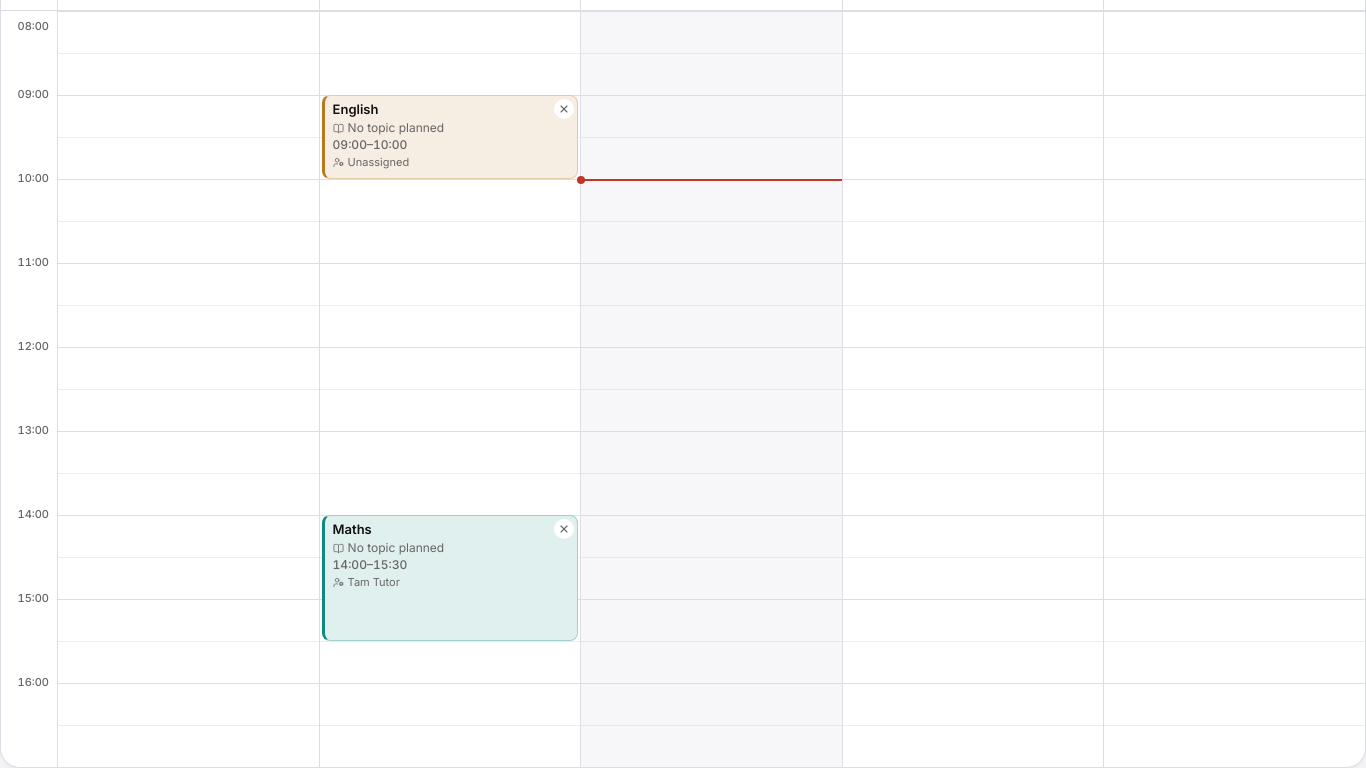
Scenario: TimetablePage changing and removing sessions › Cancel and Escape close the dialog without saving
(page scrolled)
Step 1. Click the button with aria-label "Edit Maths" → (451,578), box [325,516,577,640]
(page scrolled)
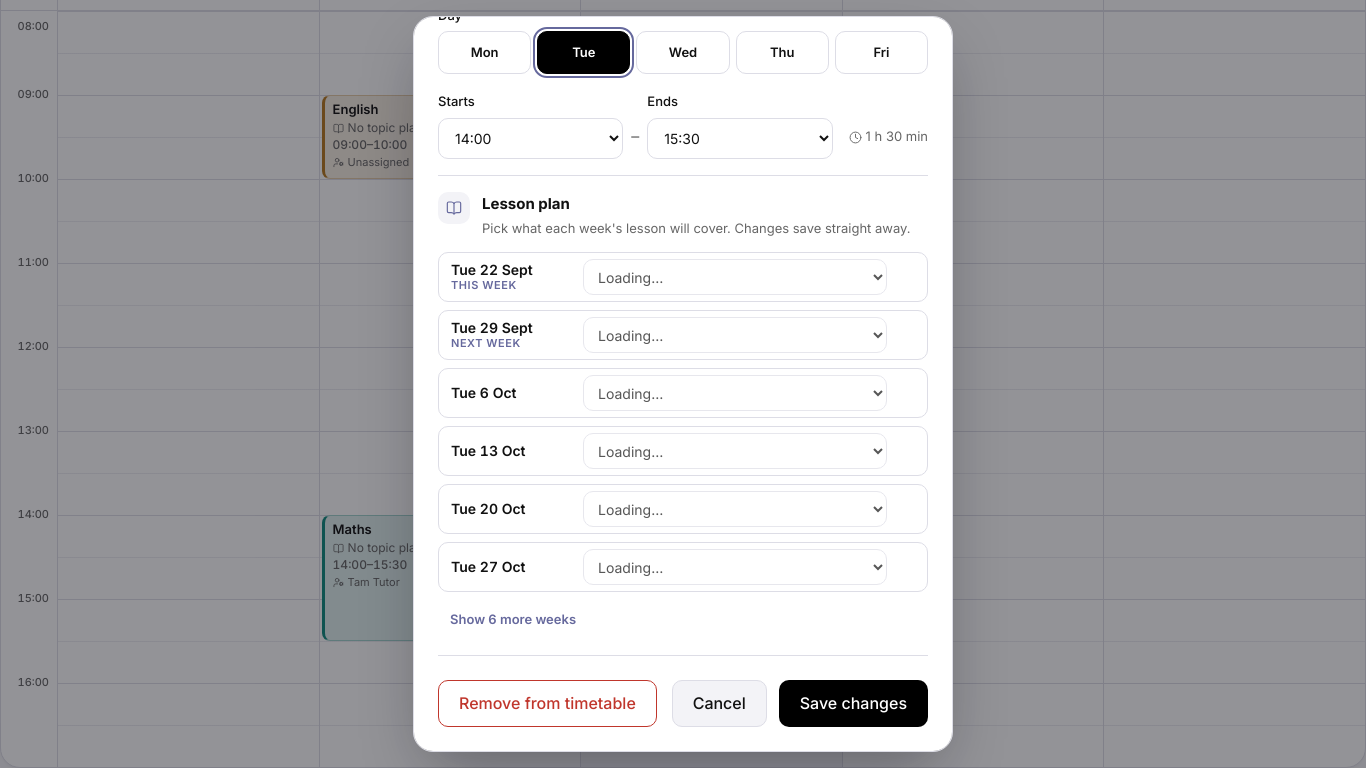
Step 2. Click the button "Cancel" → (719,704), box [672,680,767,727]
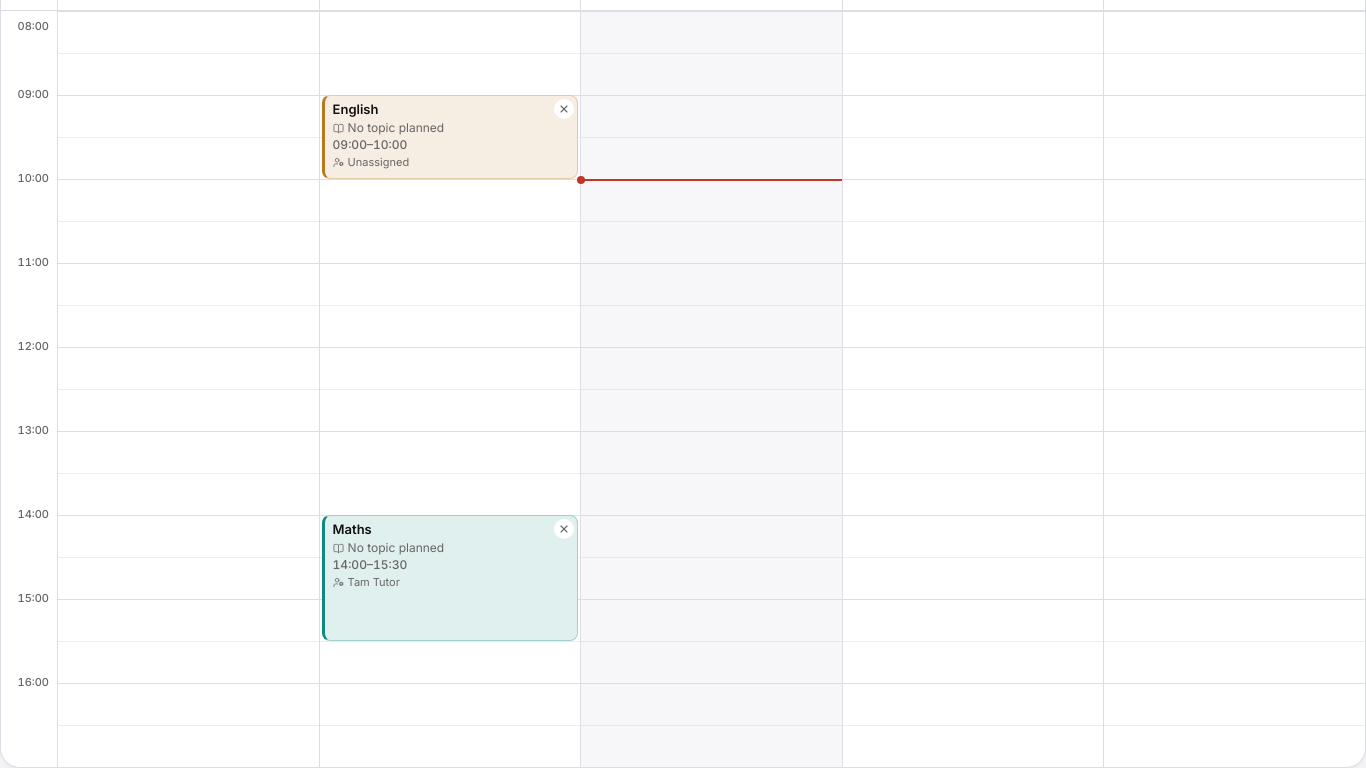
Expected: the dialog is gone
Step 3. Click the button with aria-label "Edit Maths" → (451,578), box [325,516,577,640]
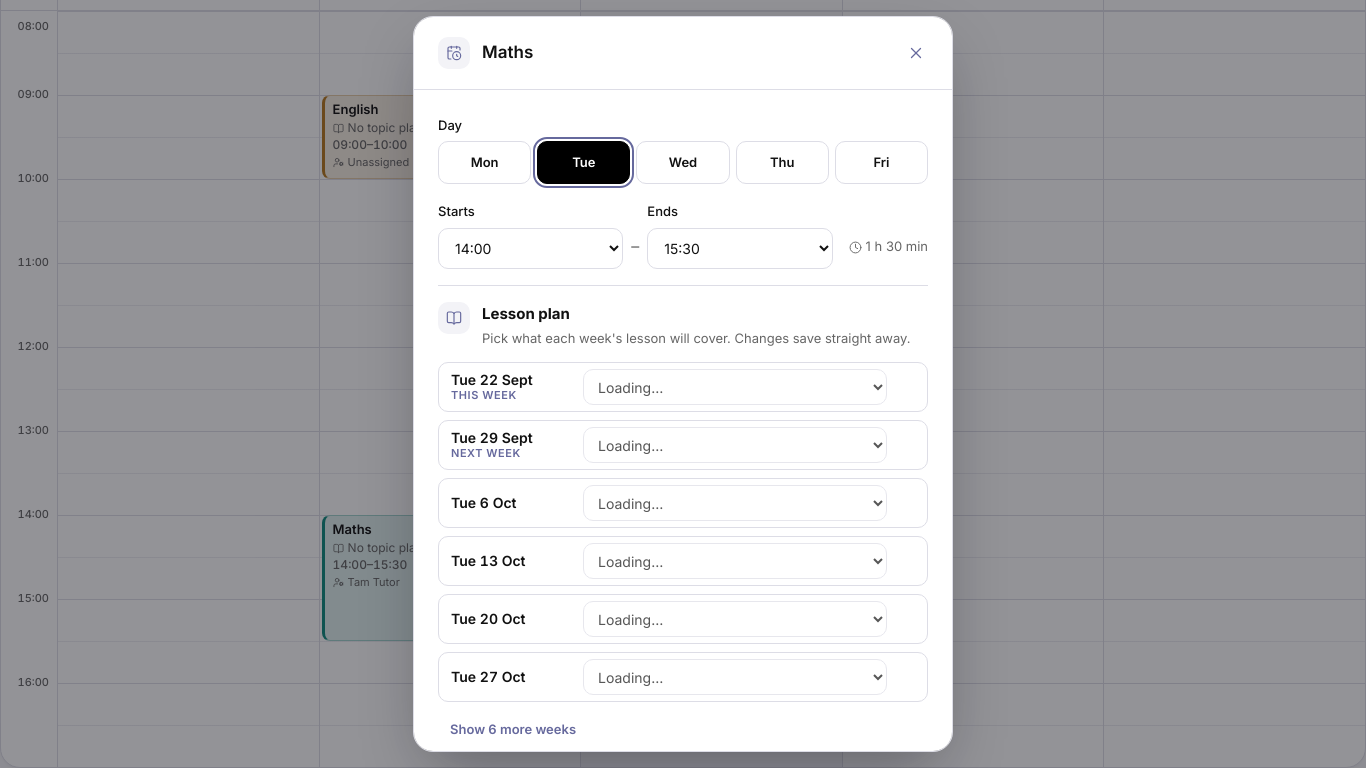
Step 4. Press Escape
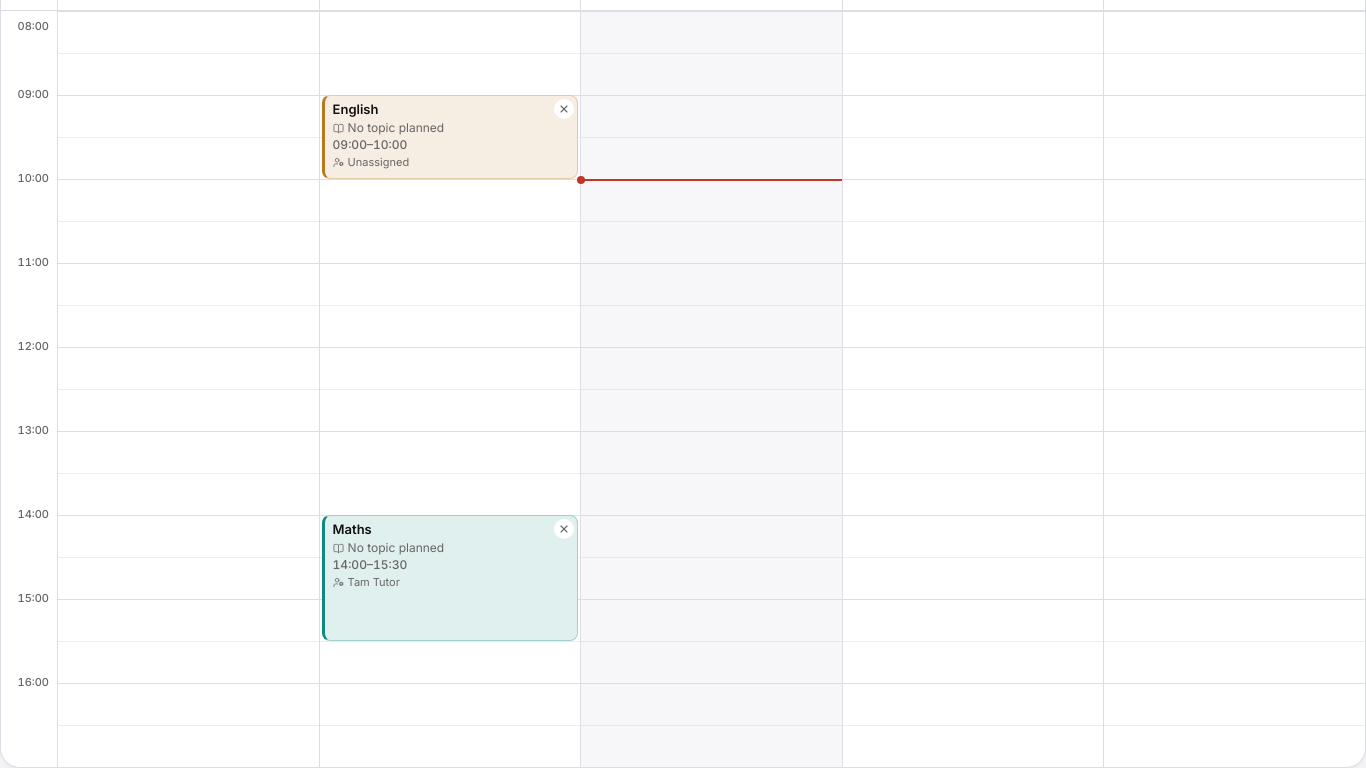
Expected: the dialog is gone
